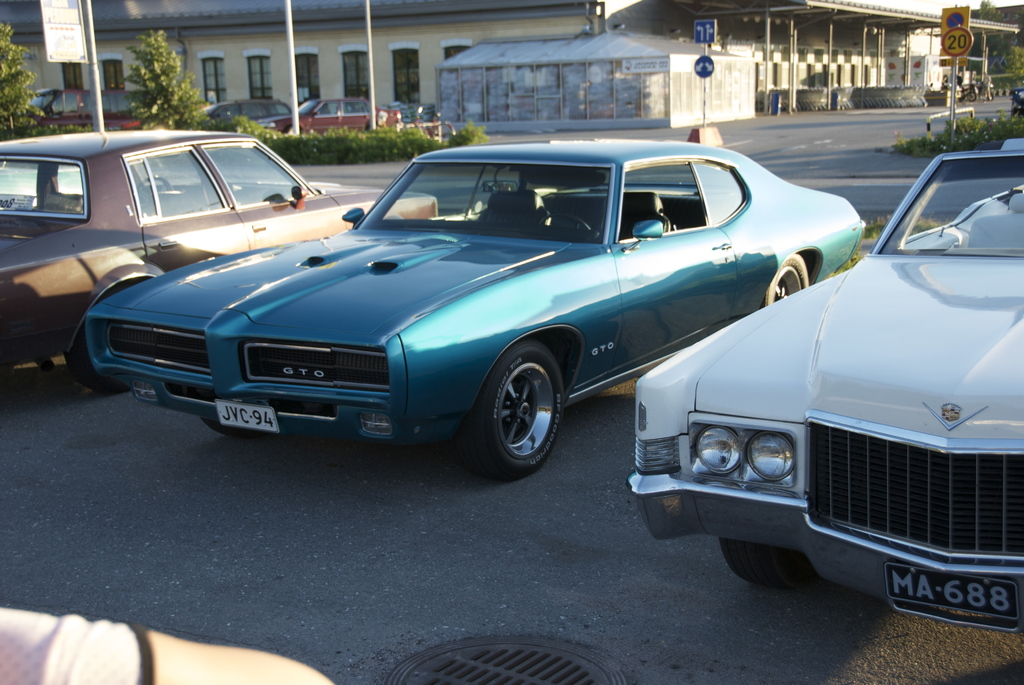Car: (627, 139, 1023, 639), (0, 119, 431, 401), (184, 92, 305, 136), (286, 92, 408, 132), (94, 71, 153, 131), (11, 74, 80, 125)
